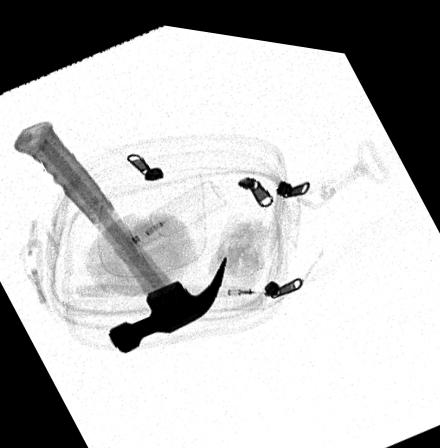Hammer: (12, 117, 228, 350)
